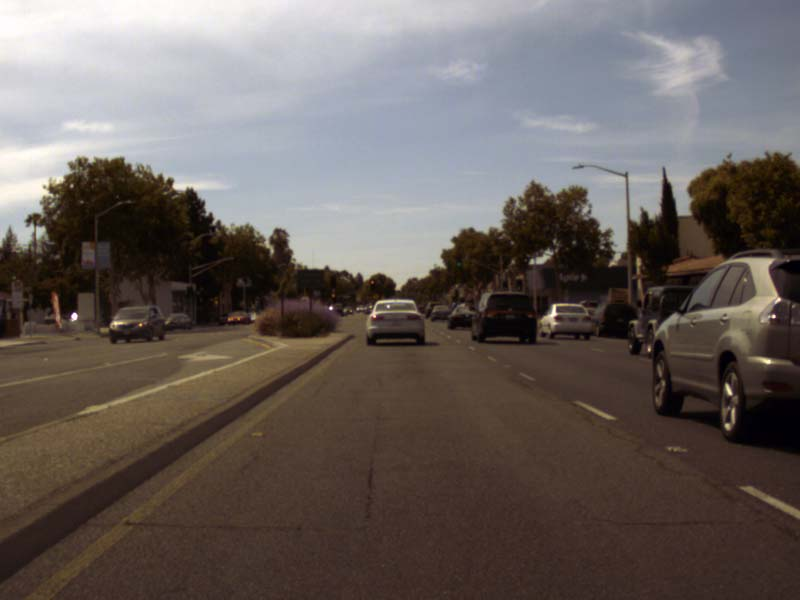Green: (516, 279, 522, 291), (456, 255, 460, 266)
Red: (370, 279, 374, 290)
Yellow: (330, 288, 335, 301)
